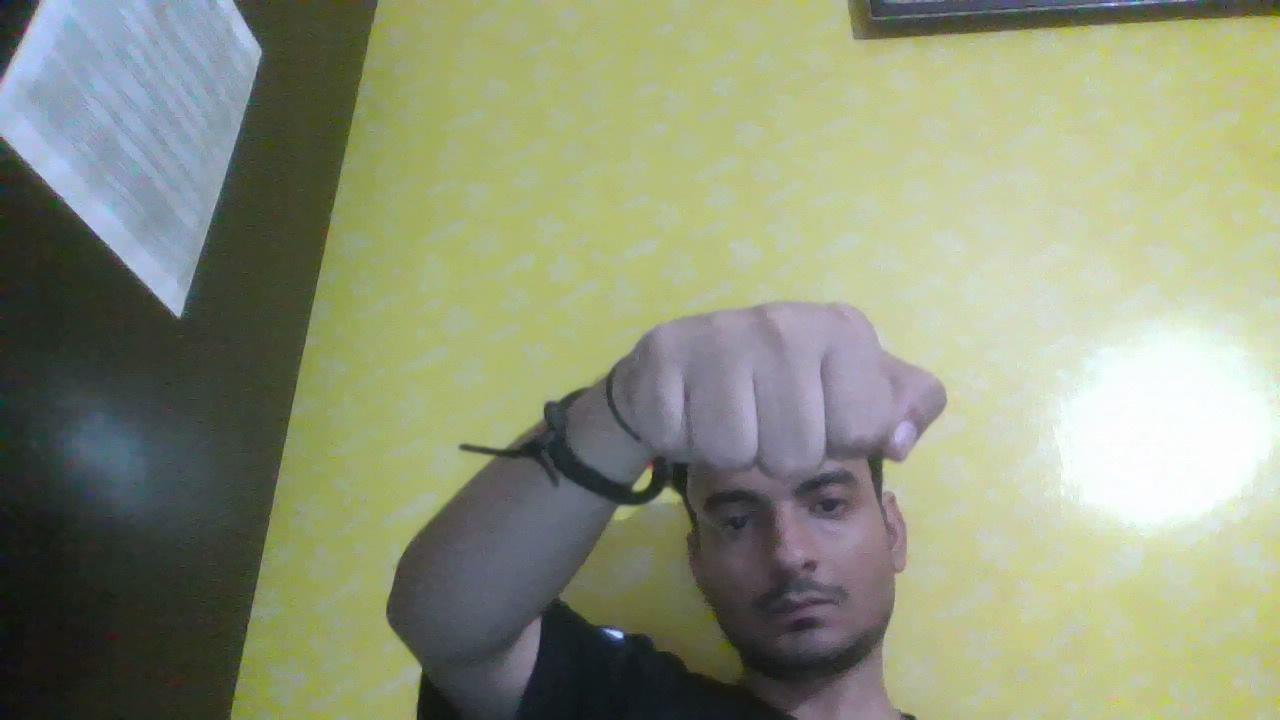Yes: (611, 279, 979, 522)
